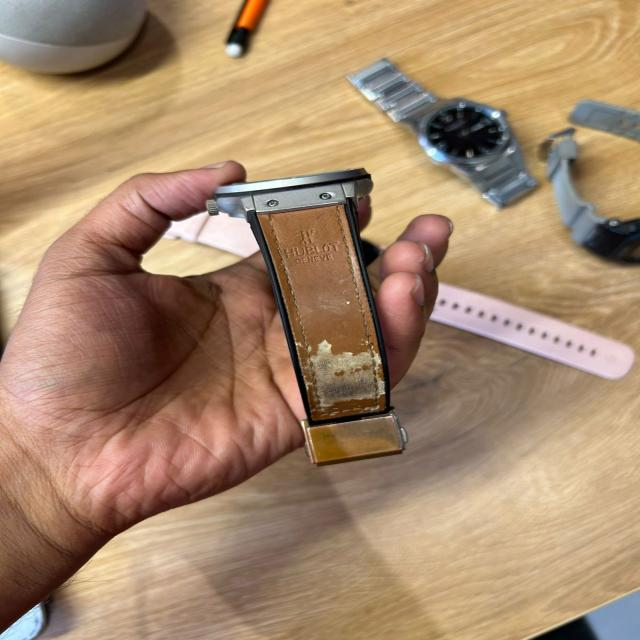watch: (204, 166, 410, 466)
